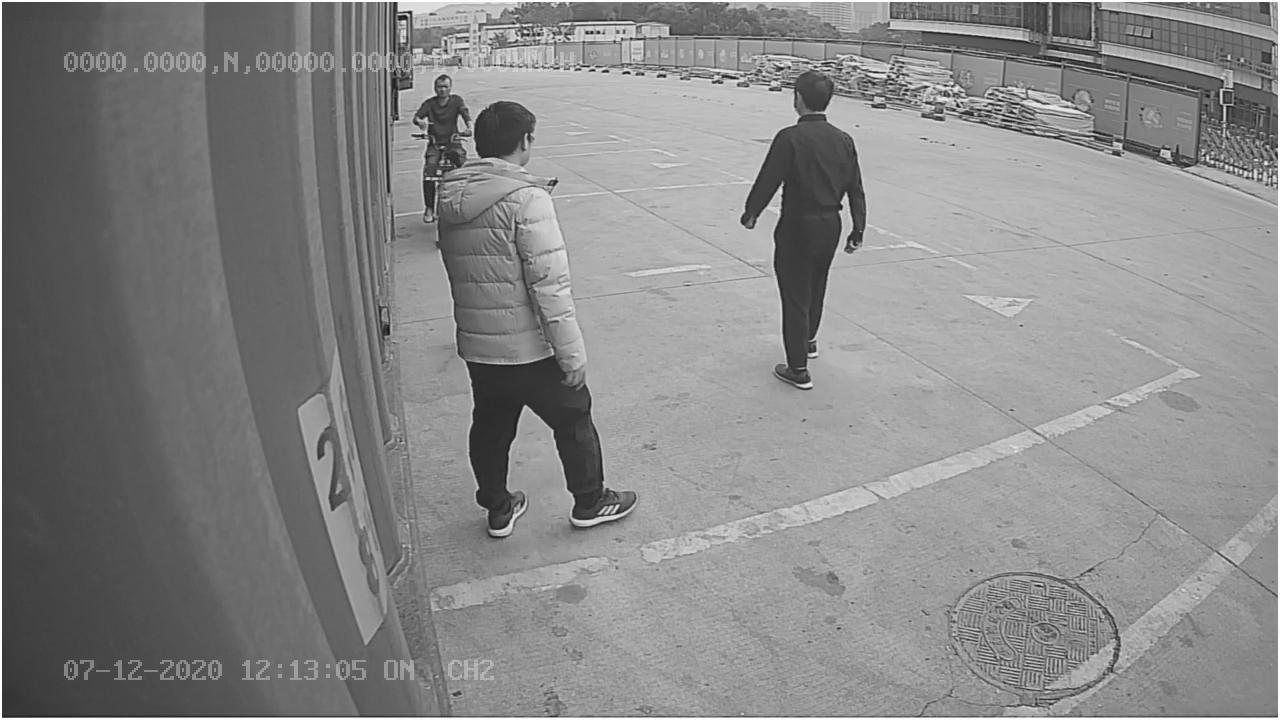person: (742, 67, 872, 394)
